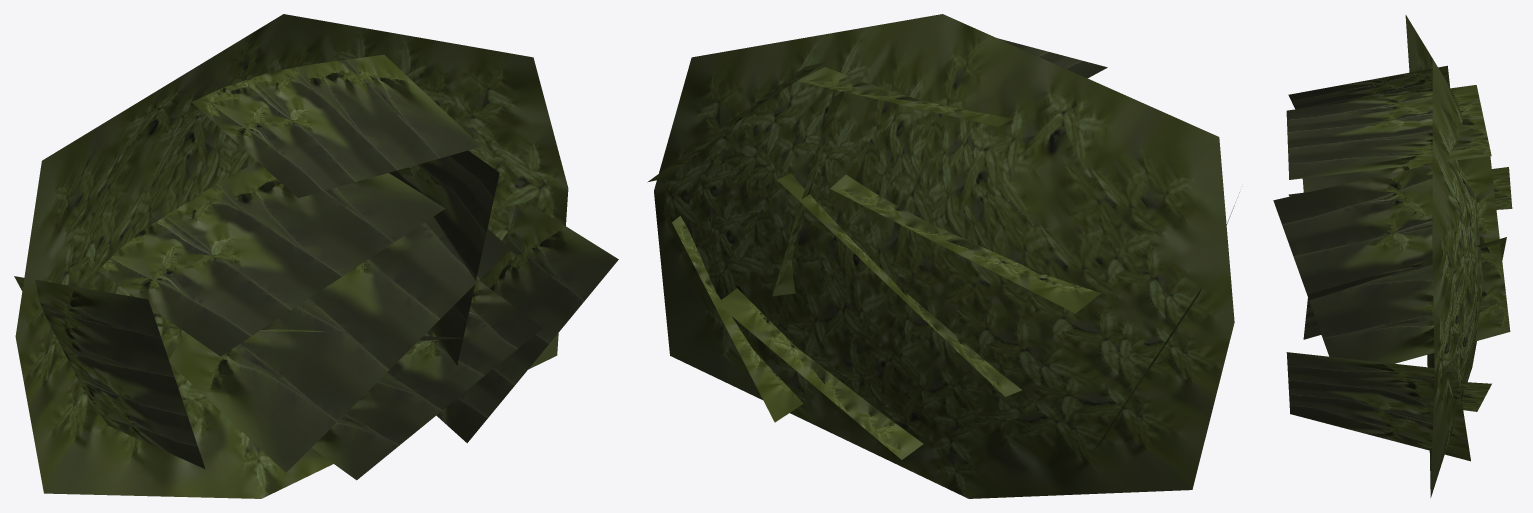
File: G_Plant.fbx
3 views of the same model, side by side, from view 1: azimuth 30°, elevation 25°; view 2: azimuth 150°, elevation 25°; view 3: azimuth 270°, elevation 25° (orthographic). The views are drawn at different scales.
Parts seen in each view (by area): view 1: g_plant; view 2: g_plant; view 3: g_plant.
Part boxes in pixels (bbox=[...]): g_plant: bbox=[14, 14, 618, 498]; g_plant: bbox=[647, 14, 1239, 498]; g_plant: bbox=[1273, 15, 1512, 497].
Bounding box in the file's own units: 3.99 × 3.22 × 1.84.
